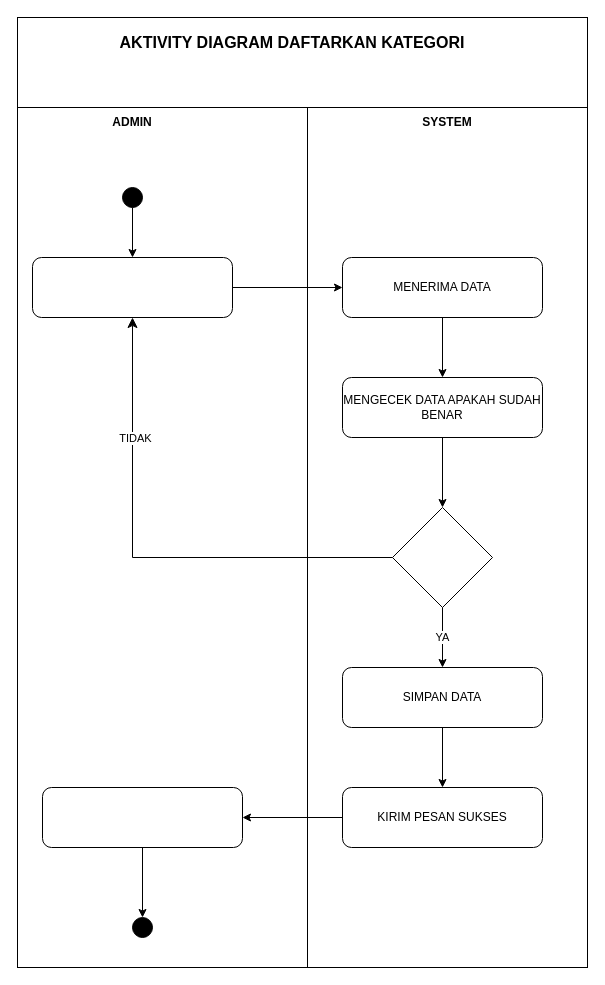
The diagram is 605 pixels wide and 985 high, and some of its shapes have lost their labels. The shapes that lost their labels are listed below. From the top down, each one's centre as x and y in pixels, then its label:
[132,287]: MENGISI DATA KATEGORI
[142,817]: MENERIMA PESAN SUKSES
